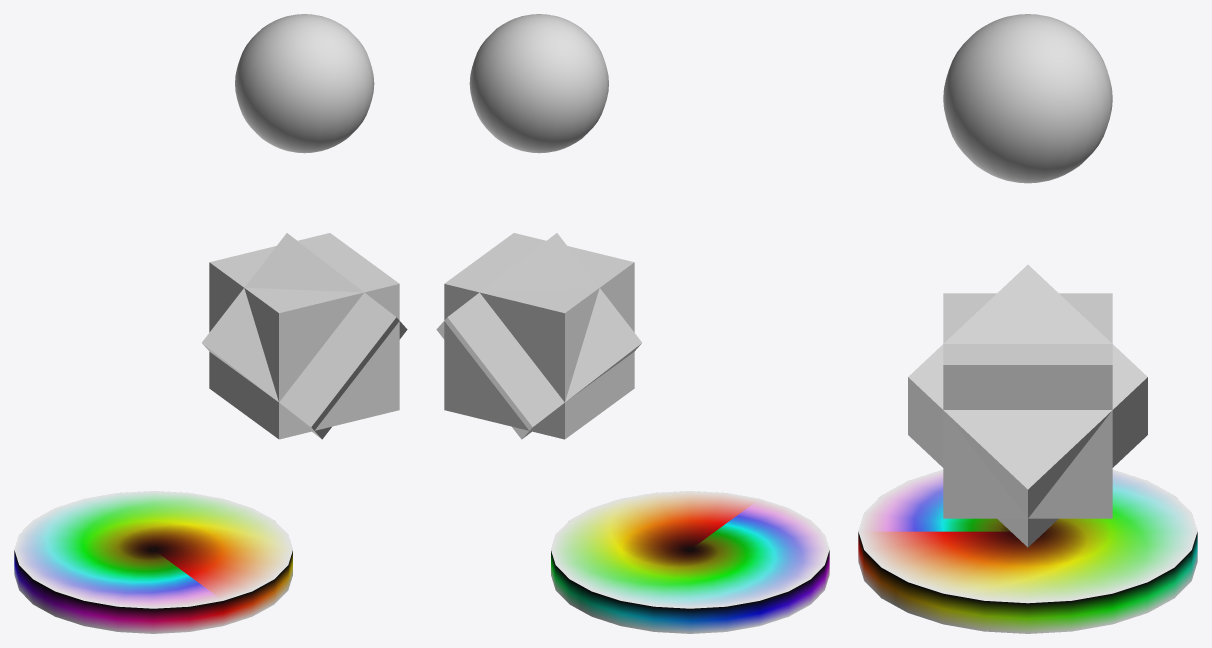
Rendered from geom-negative-det-double-side.gltf.
3 views of the same model, side by side, from view 1: azimuth 30°, elevation 25°; view 2: azimuth 150°, elevation 25°; view 3: azimuth 270°, elevation 25° (orthographic). The views are drawn at different scales.
Parts seen in each view (by area): view 1: base, cube, sphere, diamond; view 2: base, cube, sphere, diamond; view 3: base, diamond, cube, sphere.
Part boxes in pixels (left/top/right/bottom): base: left=14, top=491, right=292, bottom=633; cube: left=209, top=233, right=399, bottom=439; sphere: left=235, top=14, right=374, bottom=153; diamond: left=202, top=233, right=407, bottom=439; base: left=551, top=491, right=829, bottom=633; cube: left=444, top=233, right=634, bottom=439; sphere: left=469, top=14, right=608, bottom=153; diamond: left=436, top=233, right=641, bottom=439; base: left=858, top=469, right=1197, bottom=633; diamond: left=908, top=265, right=1147, bottom=547; cube: left=943, top=293, right=1112, bottom=518; sphere: left=943, top=14, right=1112, bottom=183.
Size of what is drawn, in the model's own units: 1.55 by 2.05 by 1.
2 materials, 1 textured.
